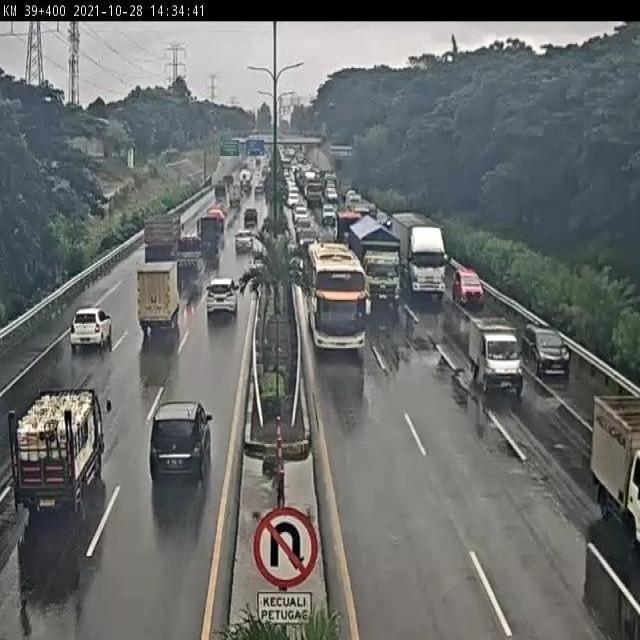Bus: (306, 238, 366, 354)
Car: (147, 402, 216, 485), (522, 323, 572, 380), (69, 307, 112, 354), (452, 266, 486, 310), (206, 275, 237, 319), (318, 200, 338, 230), (295, 227, 321, 250), (239, 206, 261, 229), (235, 230, 255, 254)
Truck: (10, 388, 106, 520), (590, 400, 640, 560), (469, 309, 531, 400), (394, 205, 448, 304), (354, 218, 400, 319), (132, 260, 182, 334), (143, 213, 180, 263), (176, 235, 205, 284), (198, 210, 225, 259), (225, 182, 243, 208)
